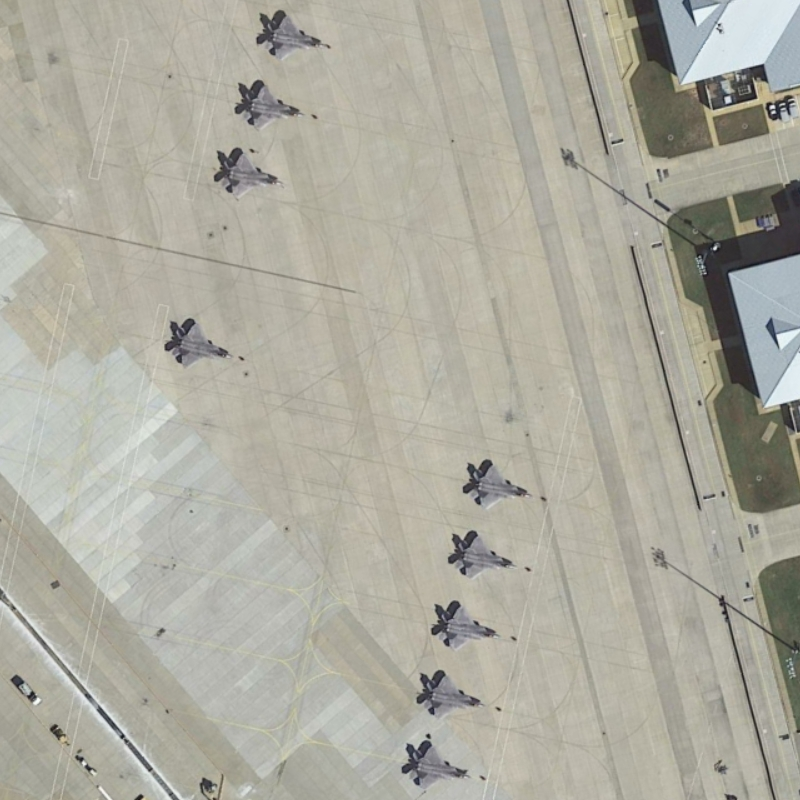A15: (256, 6, 335, 64), (214, 149, 292, 204), (460, 457, 535, 514), (162, 316, 236, 373), (234, 79, 310, 134), (399, 737, 473, 792), (417, 669, 490, 722), (430, 600, 504, 652), (450, 530, 522, 582)
